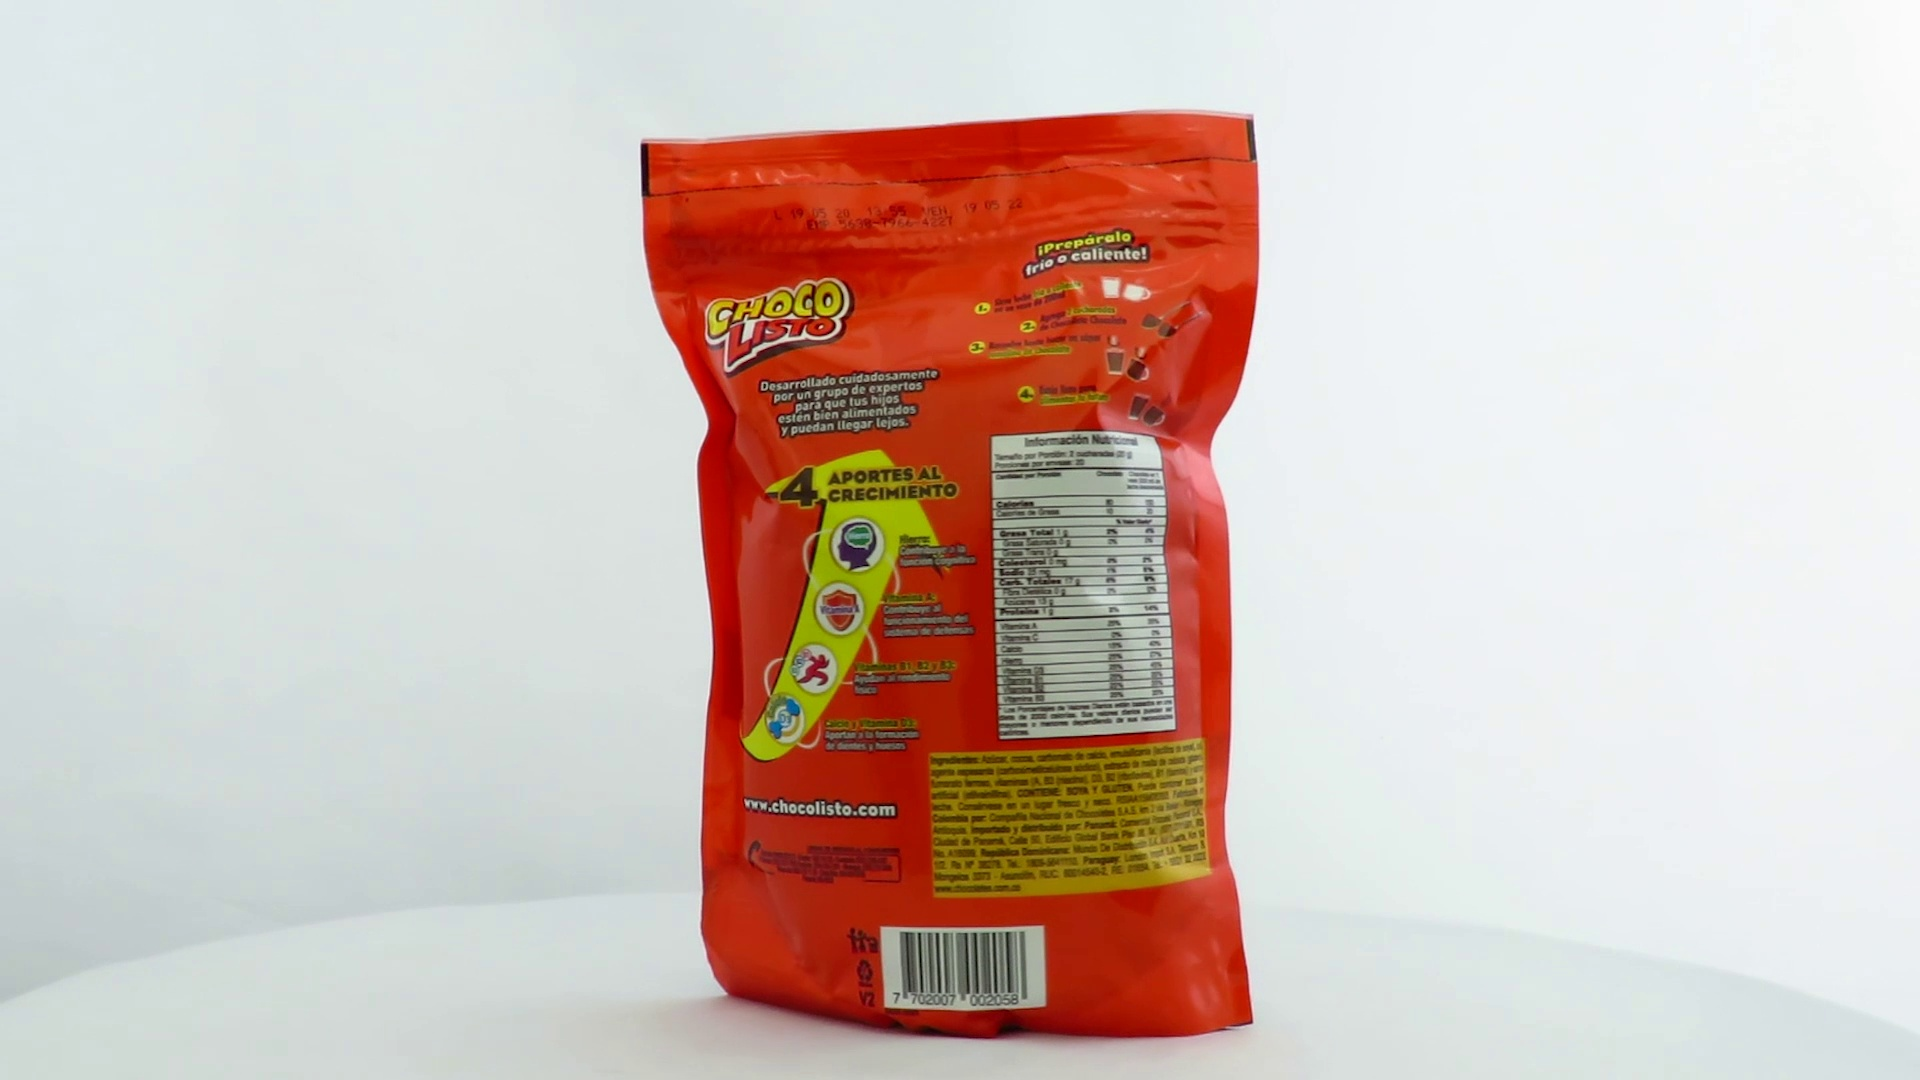COL0170103DYP40000: (636, 104, 1266, 1050)
